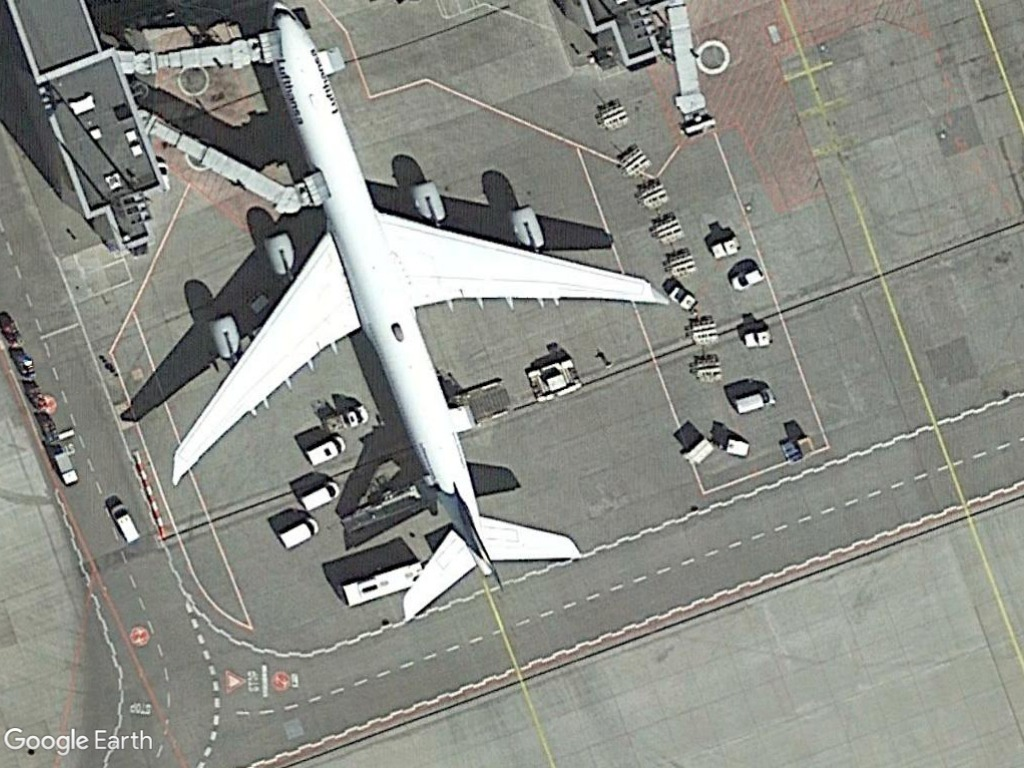airliner: (158, 0, 674, 627)
bus: (341, 556, 428, 607)
car: (723, 265, 766, 295)
van: (107, 500, 143, 550), (294, 476, 341, 514), (302, 434, 346, 469), (279, 516, 323, 551), (730, 386, 775, 418)
